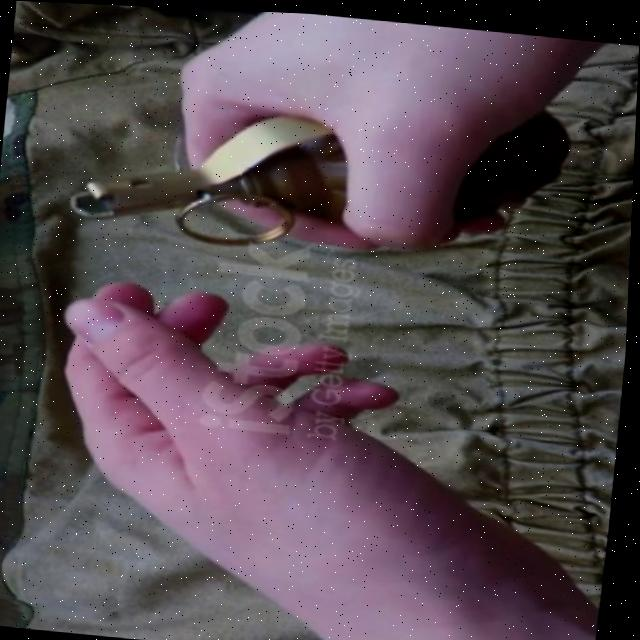grenade: (71, 49, 585, 280)
